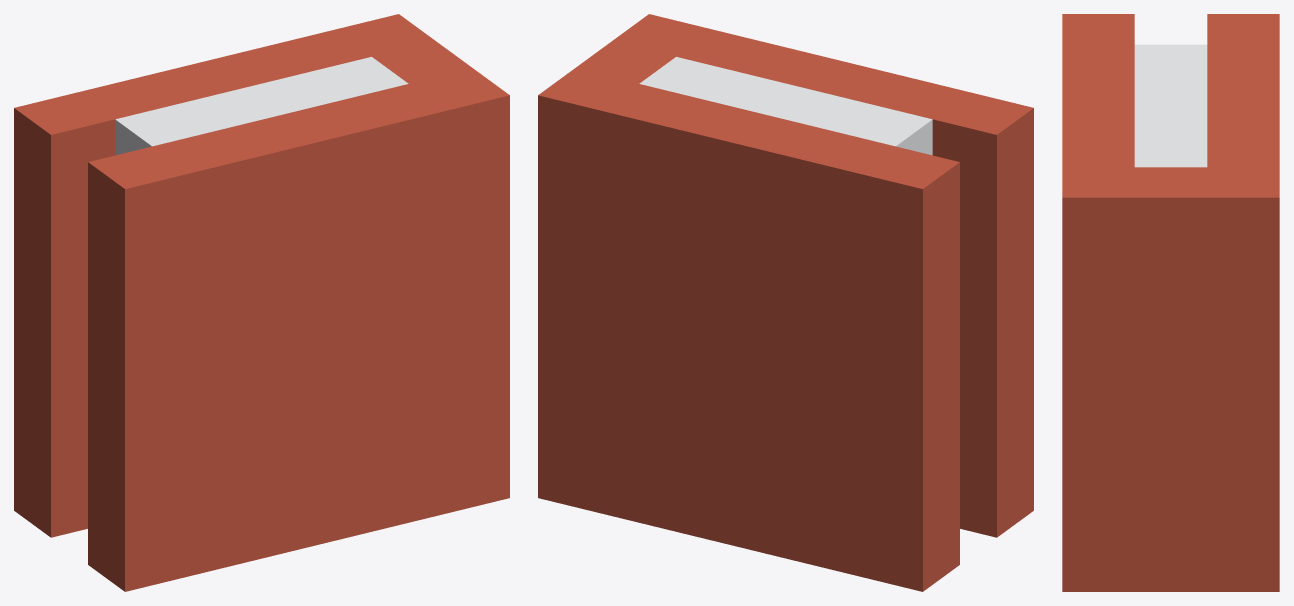
Rendered from book-orange.obj.
3 renders of one model, left to right at view 1: azimuth 30°, elevation 25°; view 2: azimuth 150°, elevation 25°; view 3: azimuth 270°, elevation 25°, orthographic. The views are drawn at different scales.
Size of the model in its own units: 0.6 by 0.6 by 0.3.
Materials: 1 (1 with a texture image).
